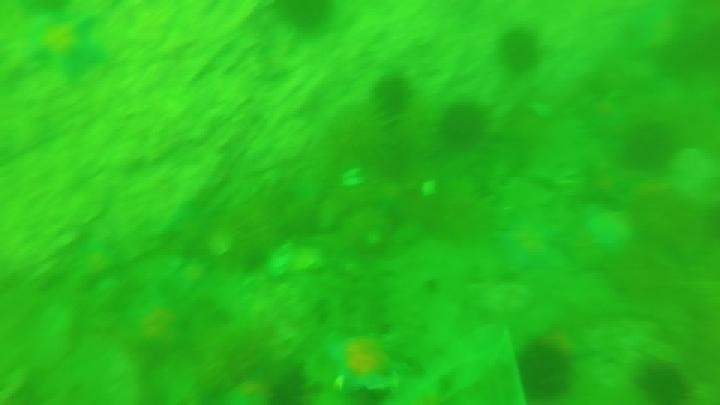echinus: (628, 189, 706, 260), (513, 339, 576, 402), (620, 121, 678, 174), (634, 359, 693, 403), (437, 101, 489, 149), (496, 26, 544, 76), (268, 1, 338, 35), (370, 73, 413, 118), (238, 244, 271, 276)
starfish: (8, 11, 108, 86), (113, 287, 197, 362), (322, 330, 400, 396), (572, 161, 655, 212), (493, 216, 563, 276), (68, 234, 126, 292), (166, 257, 215, 299)
